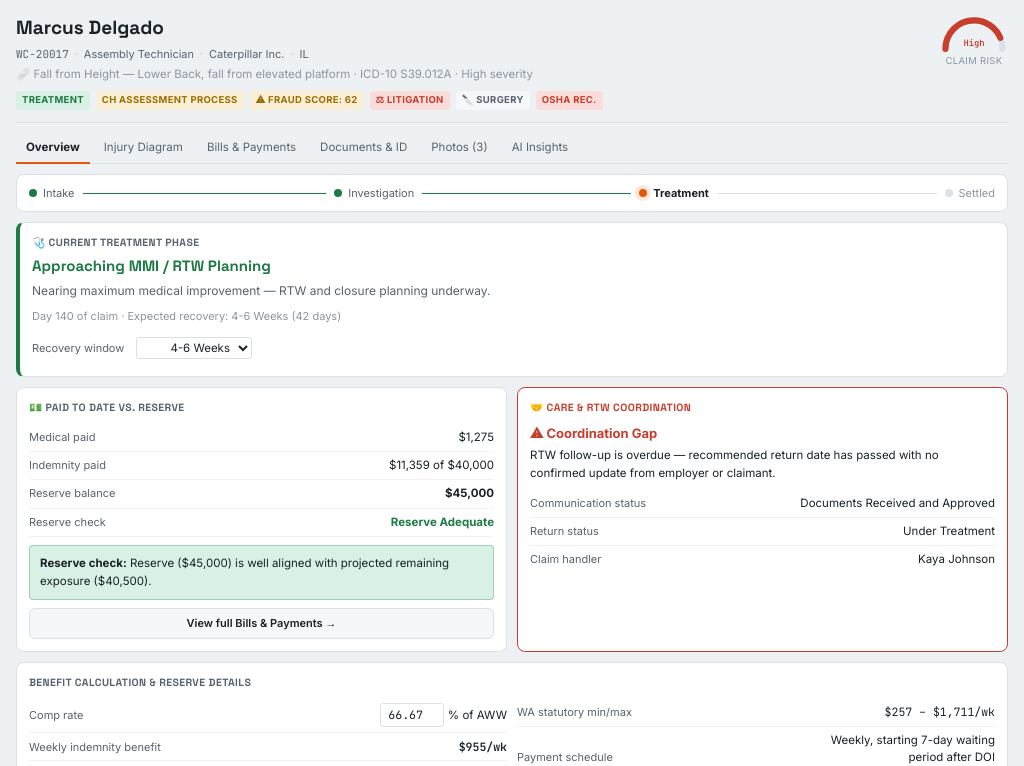
Test: the documents list shows a chip, a name and a filing date per row
Click the tab with test id "tab-documents" at (364, 148), box [310,132,417,164]
(page scrolled)
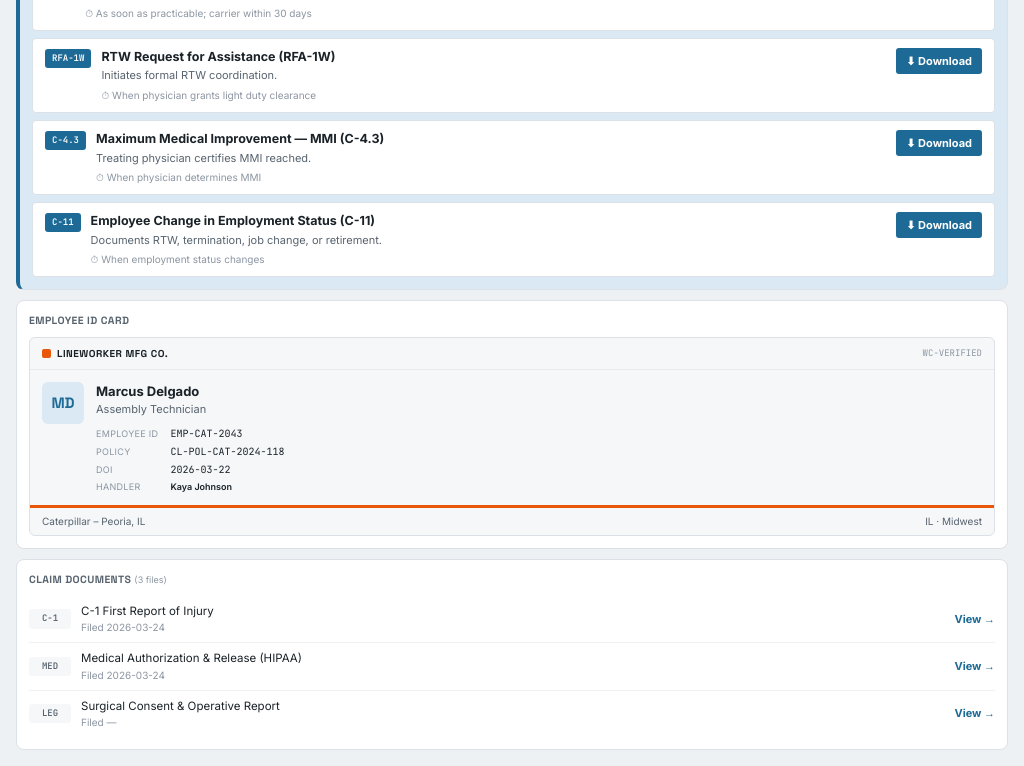
Check: the number of buttons with test id "document-row" is 3, box [29,596,995,642]; [29,643,995,690]; [29,691,995,737]
Check: the text with test id "document-count" reads "(3 files)", box [134,574,167,585]
Check: the button with test id "document-row" shows "C-1", box [29,596,995,642]
